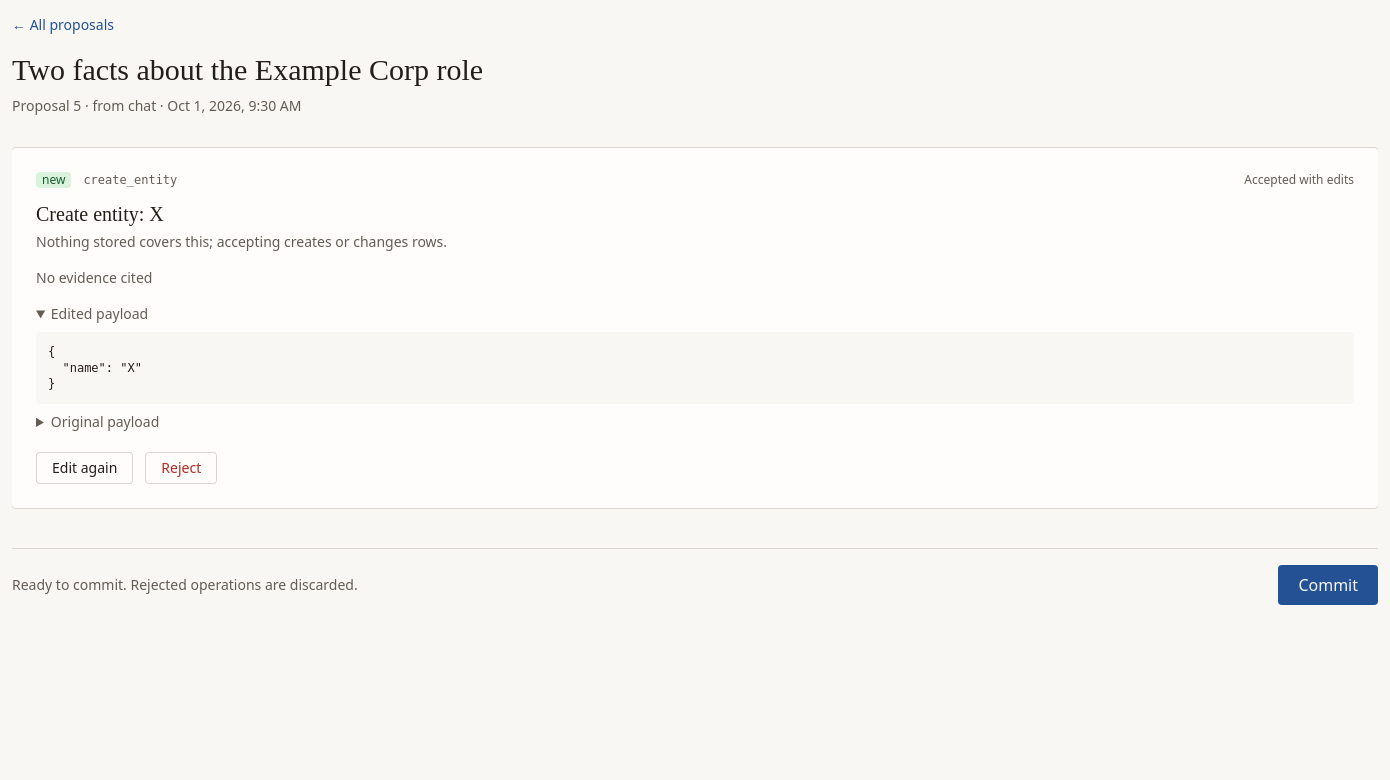
Test: ReviewPage › says how many entities still await similarity indexing
The image size is (1390, 780).
Click the button "Commit" at {"x": 1328, "y": 585}, box [1278,565,1378,605]
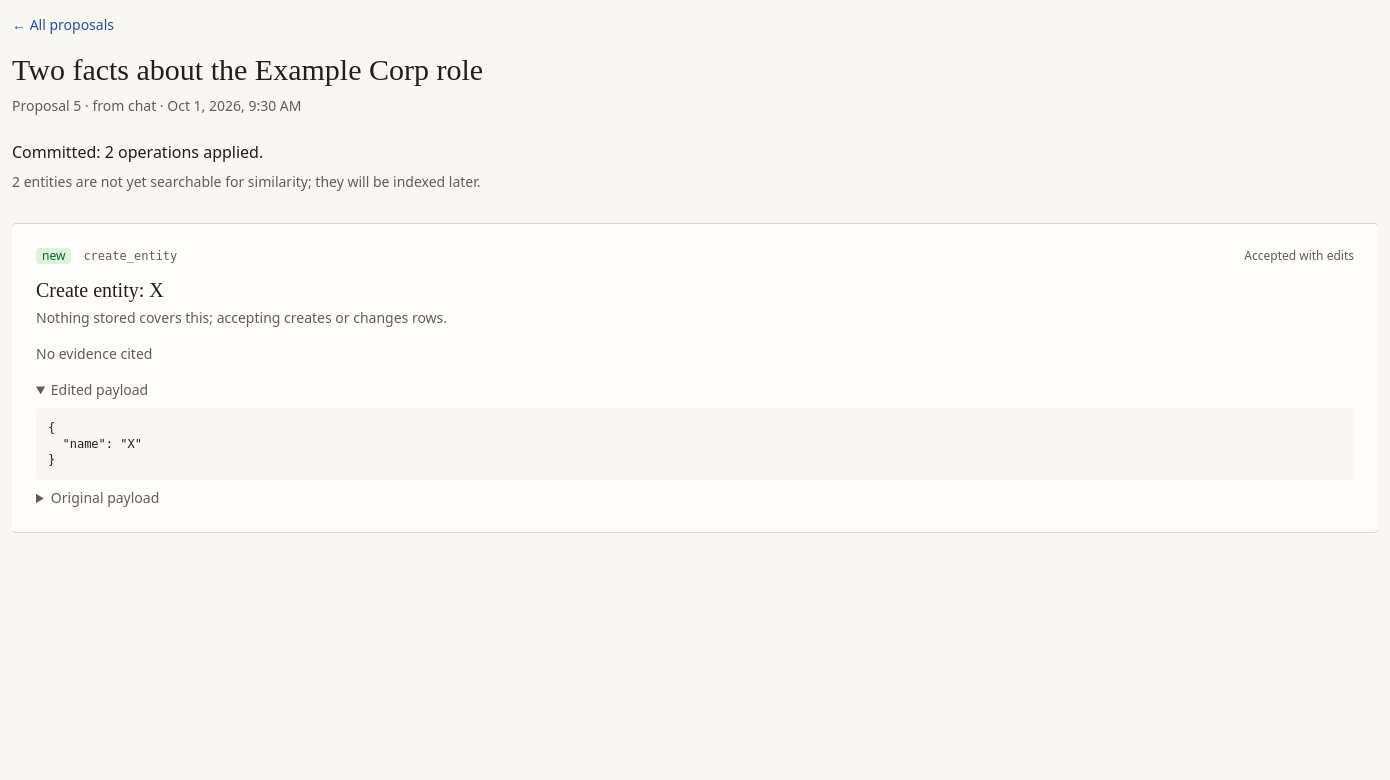
Result: the text "2 entities are not yet searchable for similarity; they will be indexed later." is shown at [12,172,480,191]
